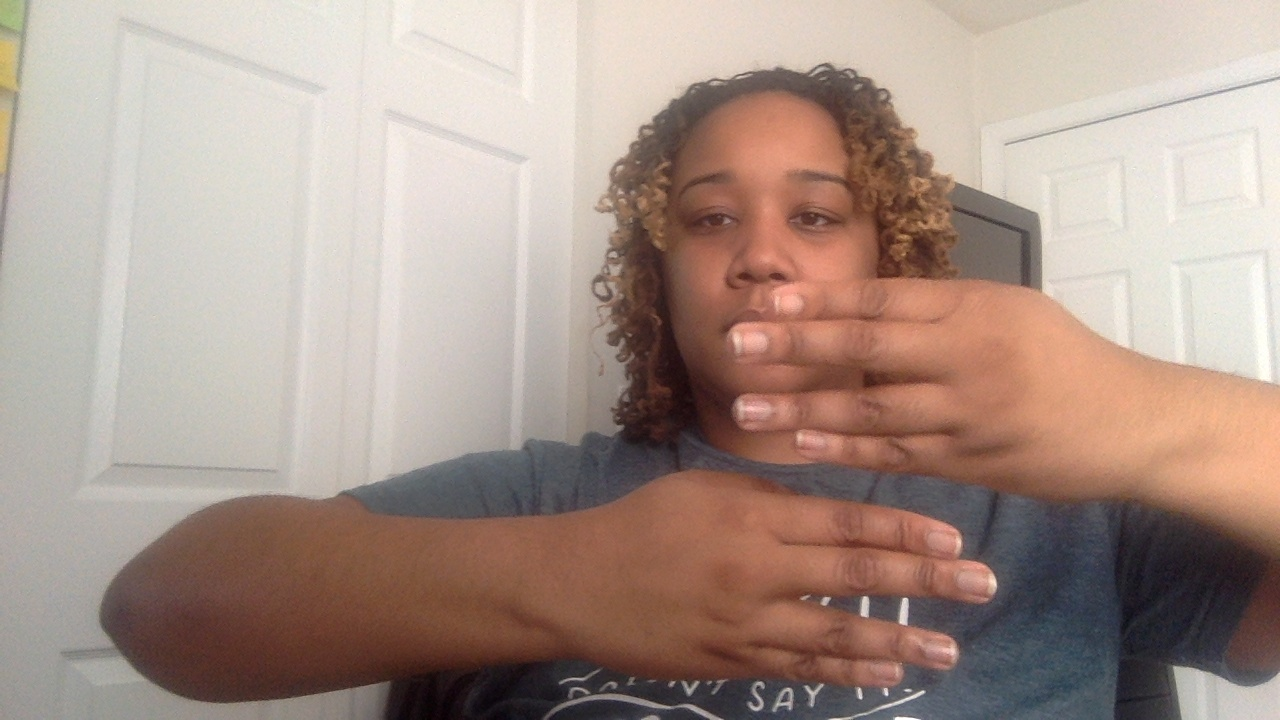world: (536, 243, 1093, 716)
